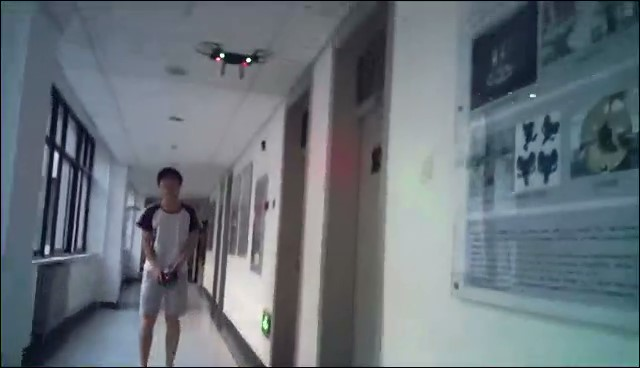drone: (193, 38, 275, 81)
person: (135, 166, 199, 368)
